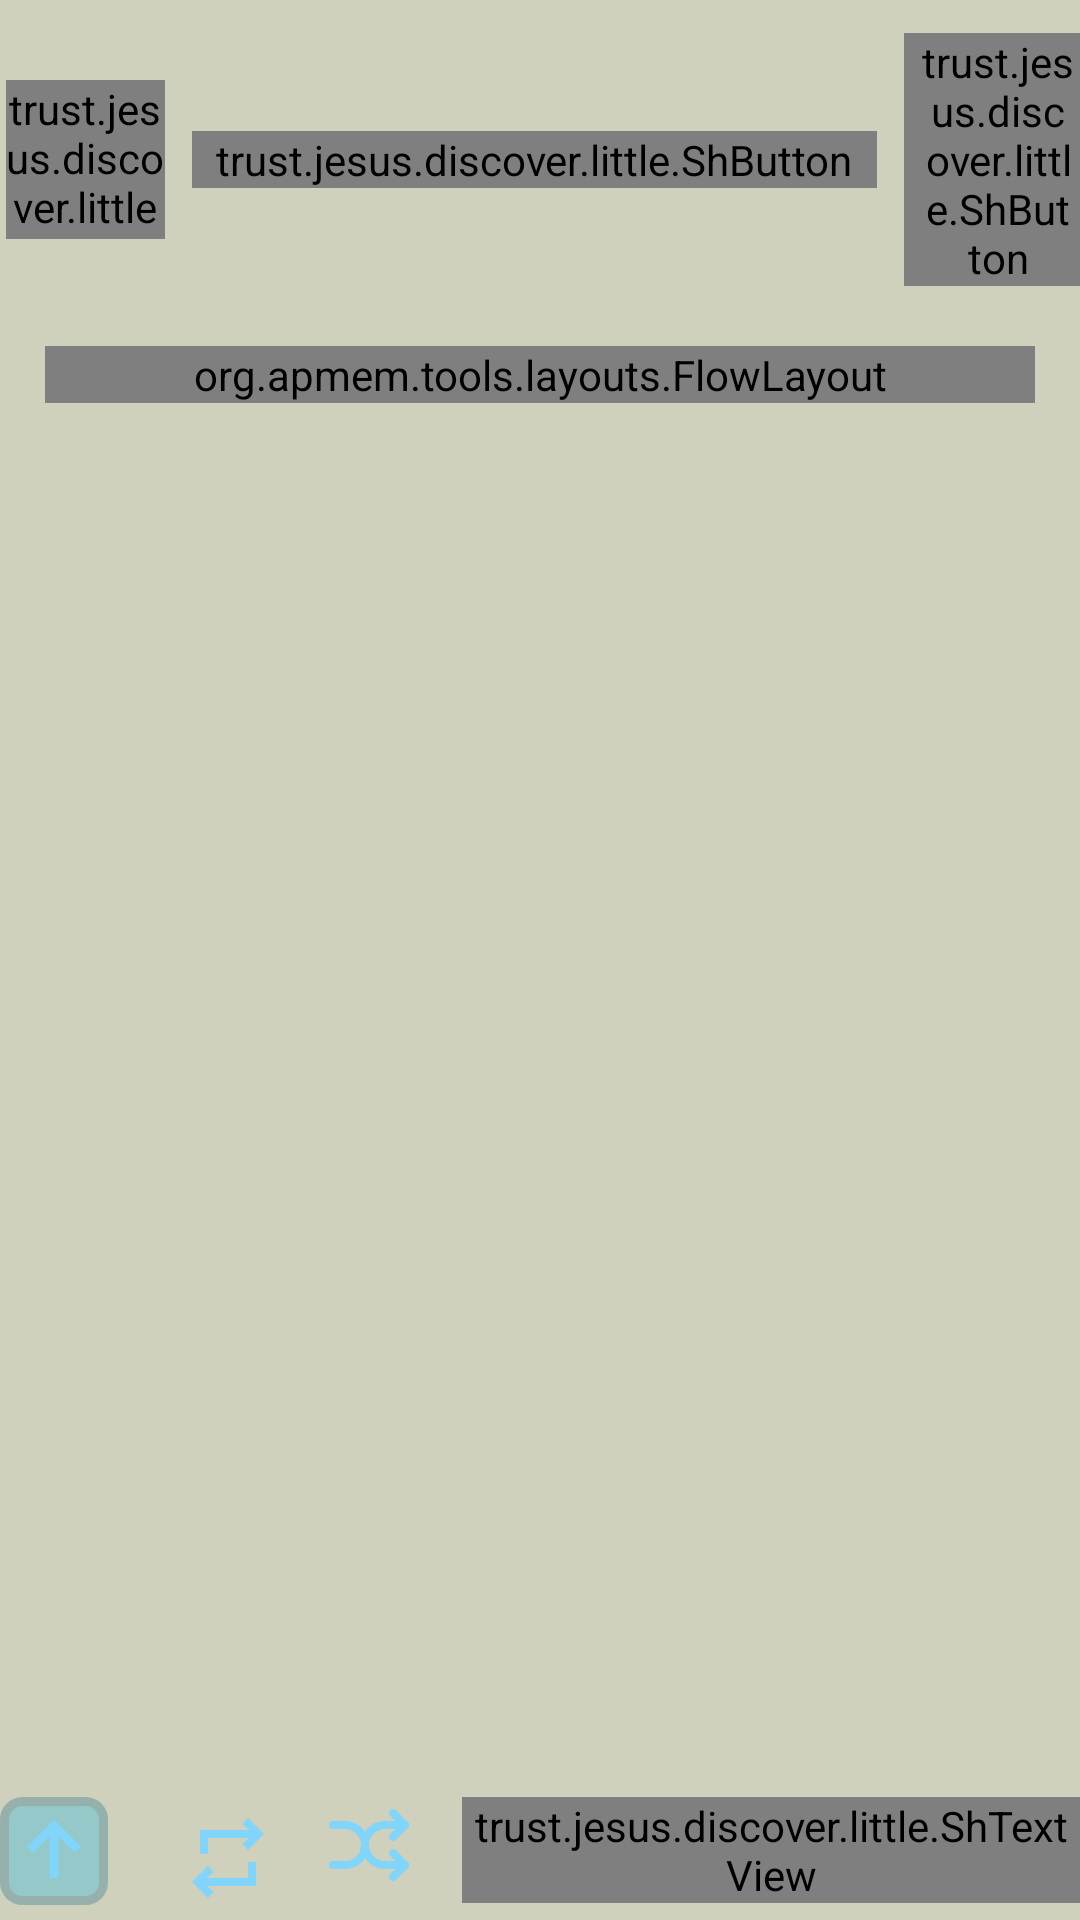

Screen size 1080×1920. Icon name, then its box in pixels as (x1, y1, x2, y2):
arrow upward: (0, 1797, 108, 1905)
